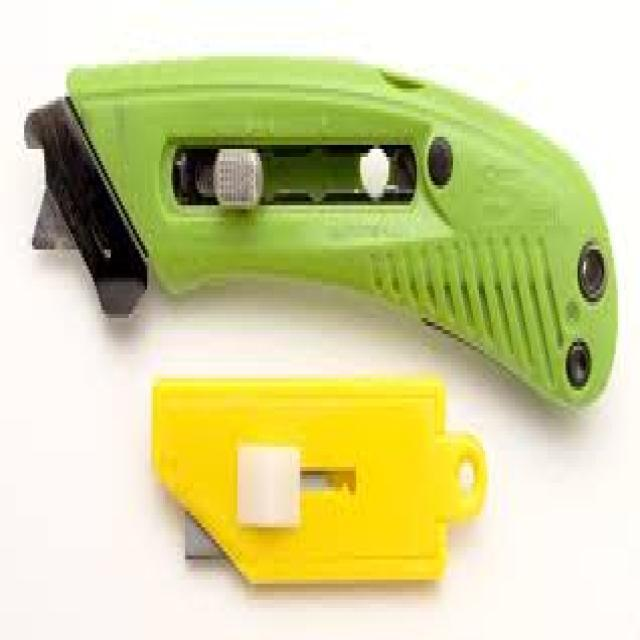cutter: (20, 56, 623, 436)
